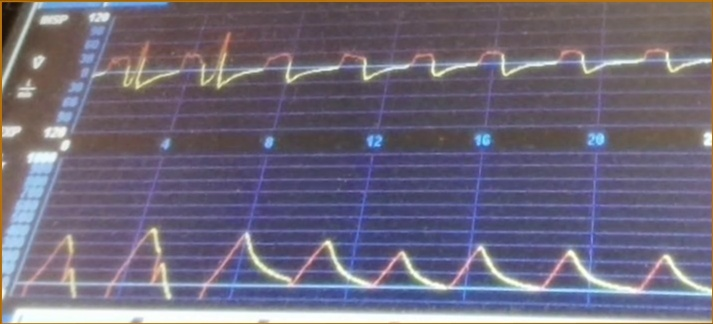Double_Triggering Flow: (102, 25, 712, 118)
Double_Triggering Volume: (27, 223, 713, 304)
